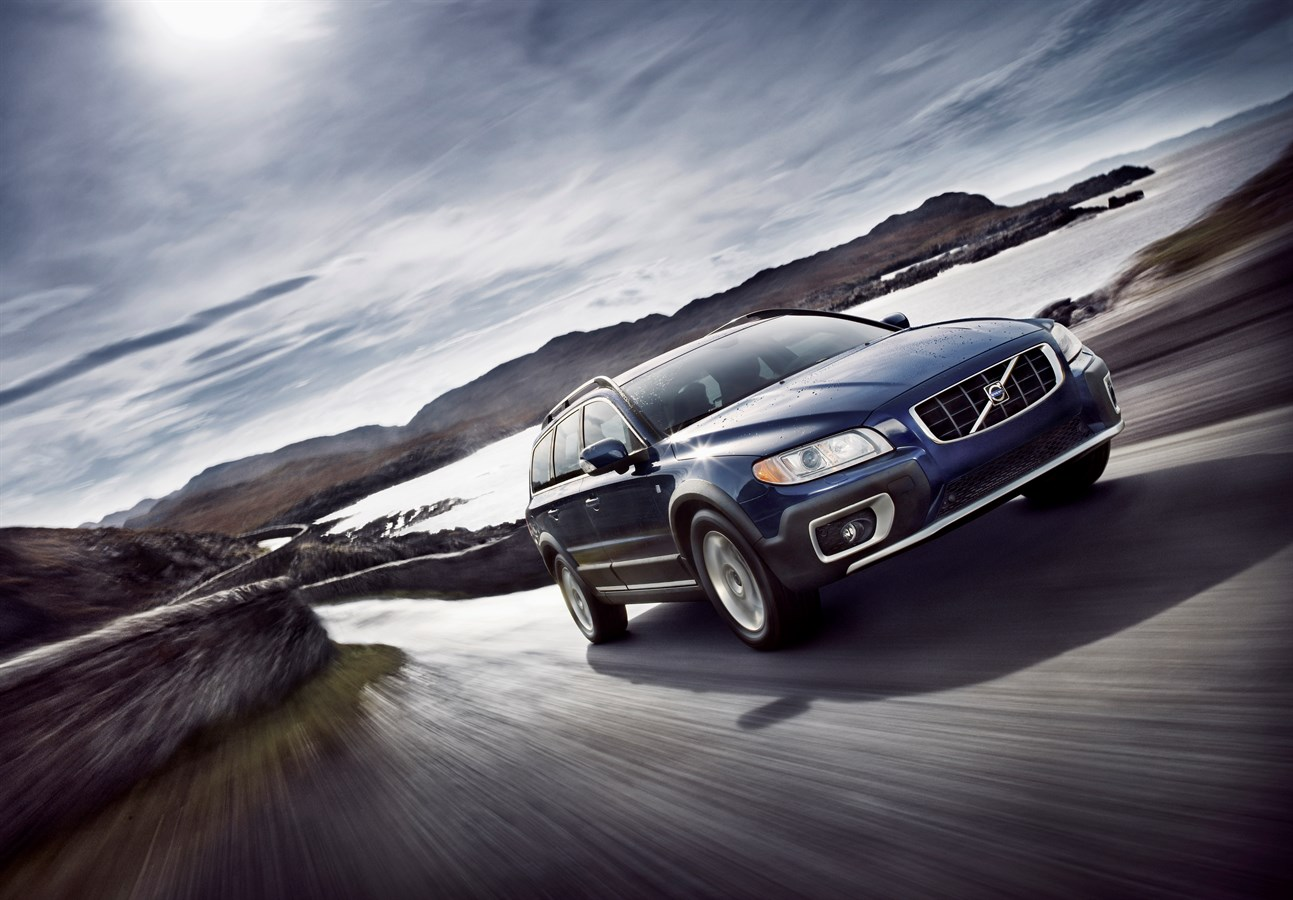su7: (507, 314, 1142, 665)
